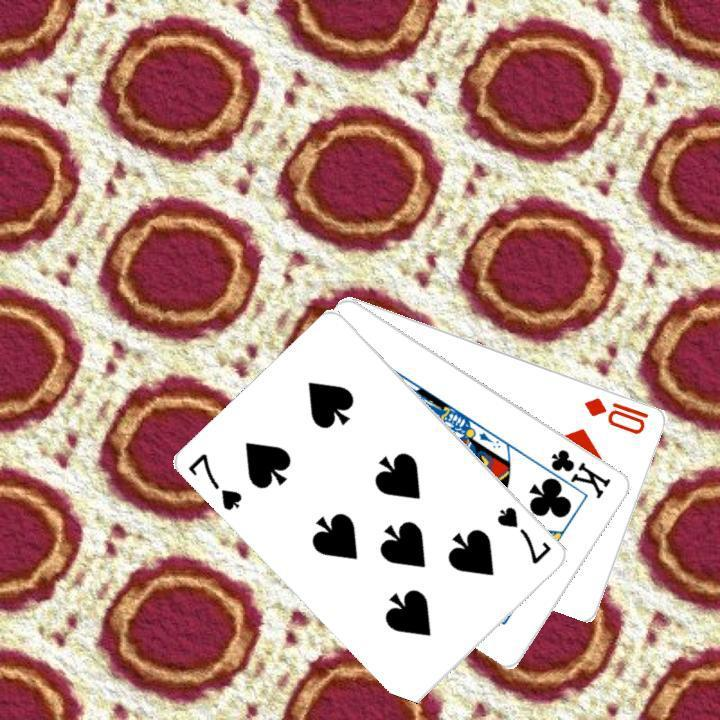10: (580, 392, 651, 436)
7: (493, 502, 555, 566), (184, 449, 245, 513)
K: (534, 444, 614, 501)
